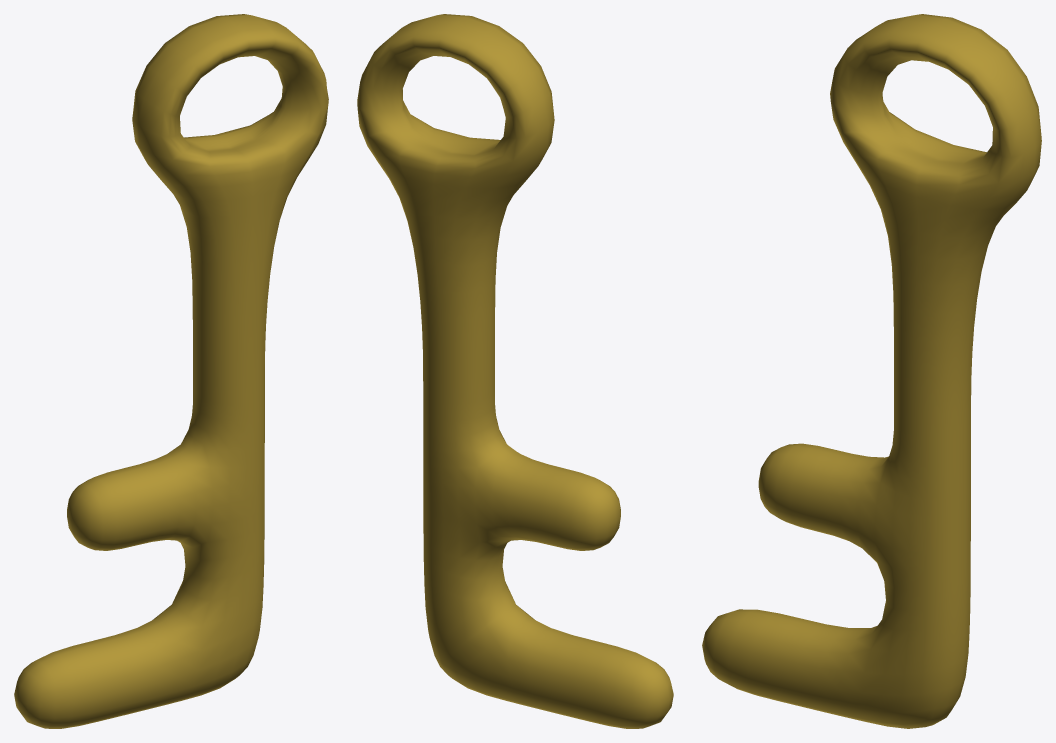
File: kjg_key.fbx
3 views of the same model, side by side, from view 1: azimuth 30°, elevation 25°; view 2: azimuth 150°, elevation 25°; view 3: azimuth 330°, elevation 25° (orthographic). The views are drawn at different scales.
Parts seen in each view (by area): view 1: Cube; view 2: Cube; view 3: Cube.
Part boxes in pixels (x1=…): Cube: x1=14, y1=14, x2=328, y2=728; Cube: x1=357, y1=14, x2=673, y2=728; Cube: x1=702, y1=14, x2=1041, y2=728.
Size of the model in its own units: 501 by 1036 by 113.
